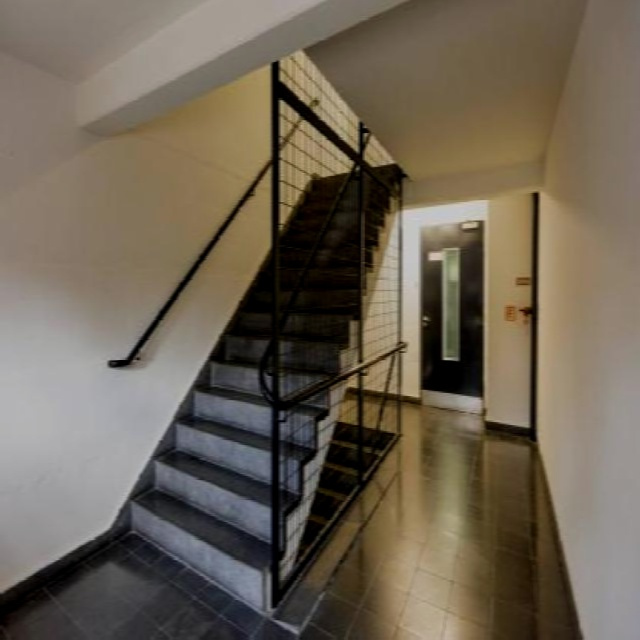stair: (120, 27, 414, 608)
